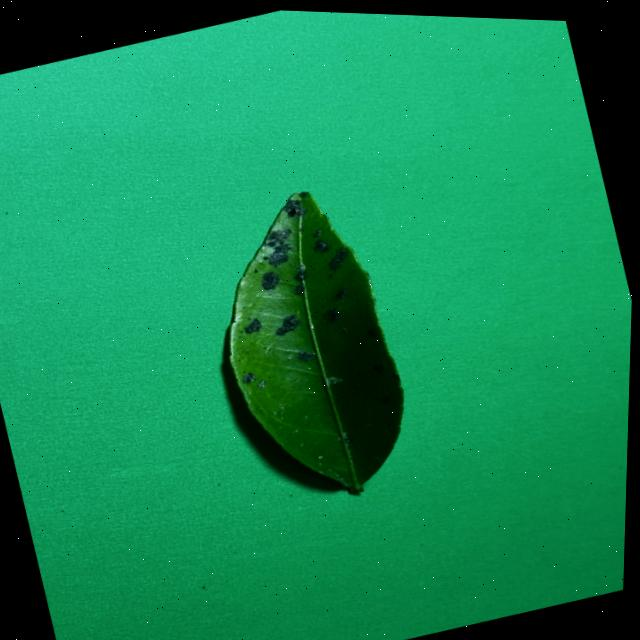sooty_mold: (228, 191, 402, 491)
